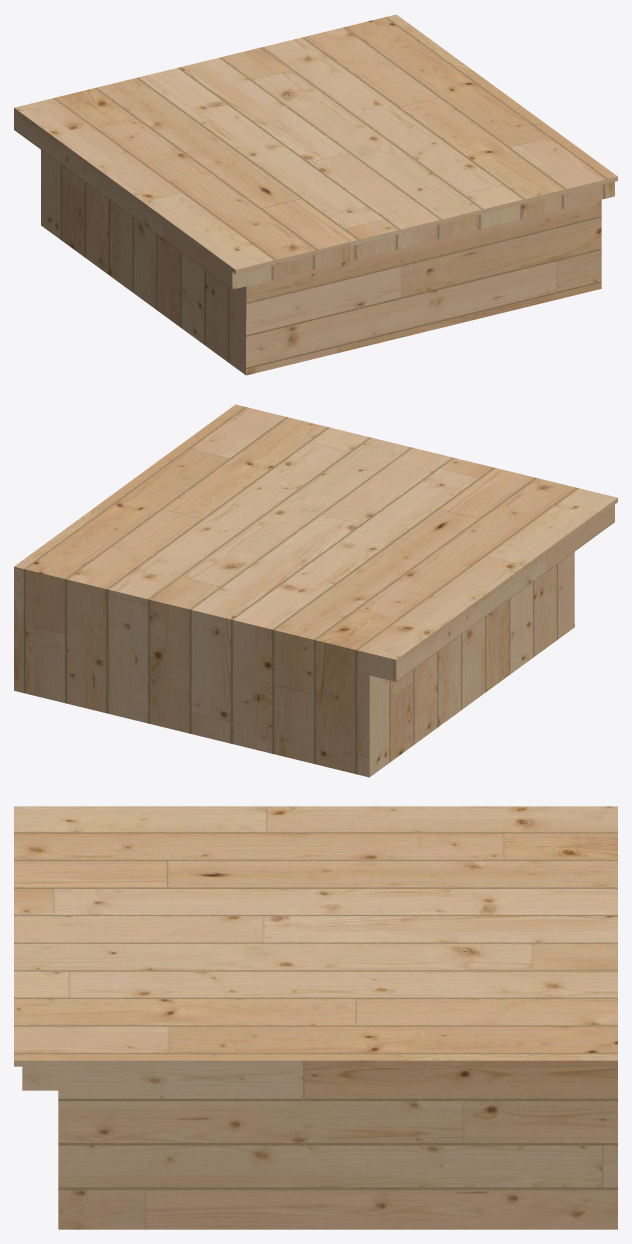
The model's file is Corner Wooden Platform.fbx.
3 views of the same model, one above another, from view 1: azimuth 30°, elevation 25°; view 2: azimuth 150°, elevation 25°; view 3: azimuth 270°, elevation 25° (orthographic). The views are drawn at different scales.
Parts seen in each view (by area): view 1: Corner Wooden Platform; view 2: Corner Wooden Platform; view 3: Corner Wooden Platform.
Boxes of the visible parts, x1=… form: Corner Wooden Platform: x1=14, y1=14, x2=617, y2=375; Corner Wooden Platform: x1=14, y1=404, x2=617, y2=777; Corner Wooden Platform: x1=14, y1=806, x2=617, y2=1229.
Size of the model in its own units: 430 by 133 by 432.
